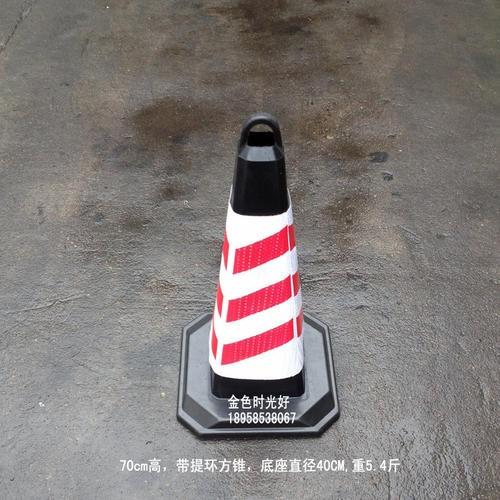cone_barrel: (183, 107, 328, 420)
